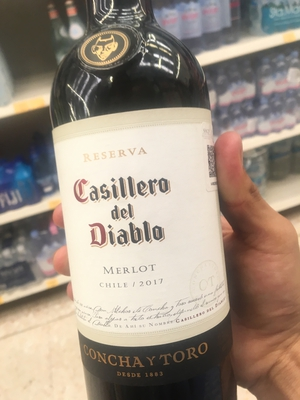casillero del diablo merlot: (48, 13, 239, 400)
